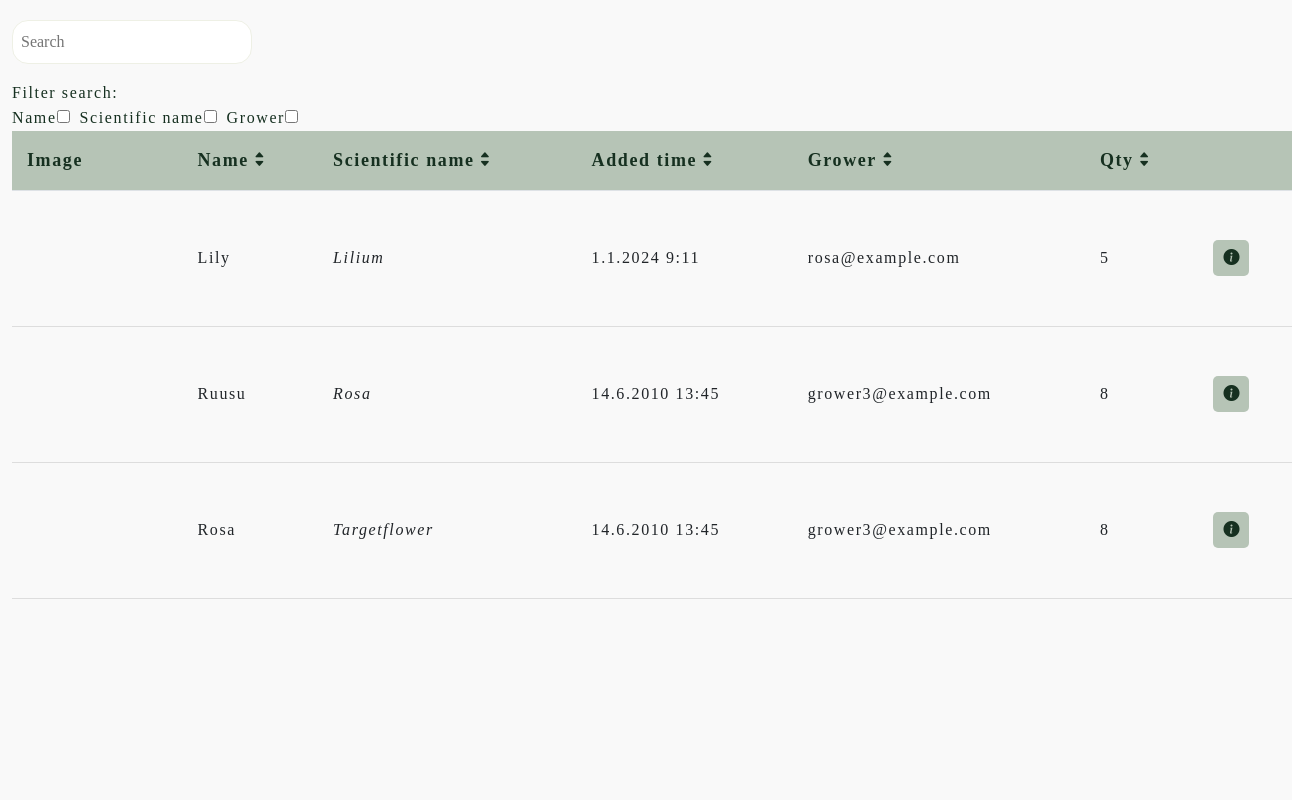
Test: Searches correctly when flower name search box is checked
This screenshot has width=1292, height=800.
Click the checkbox with test id "flowernamecheckbox": (63, 117) [57,110,70,123]
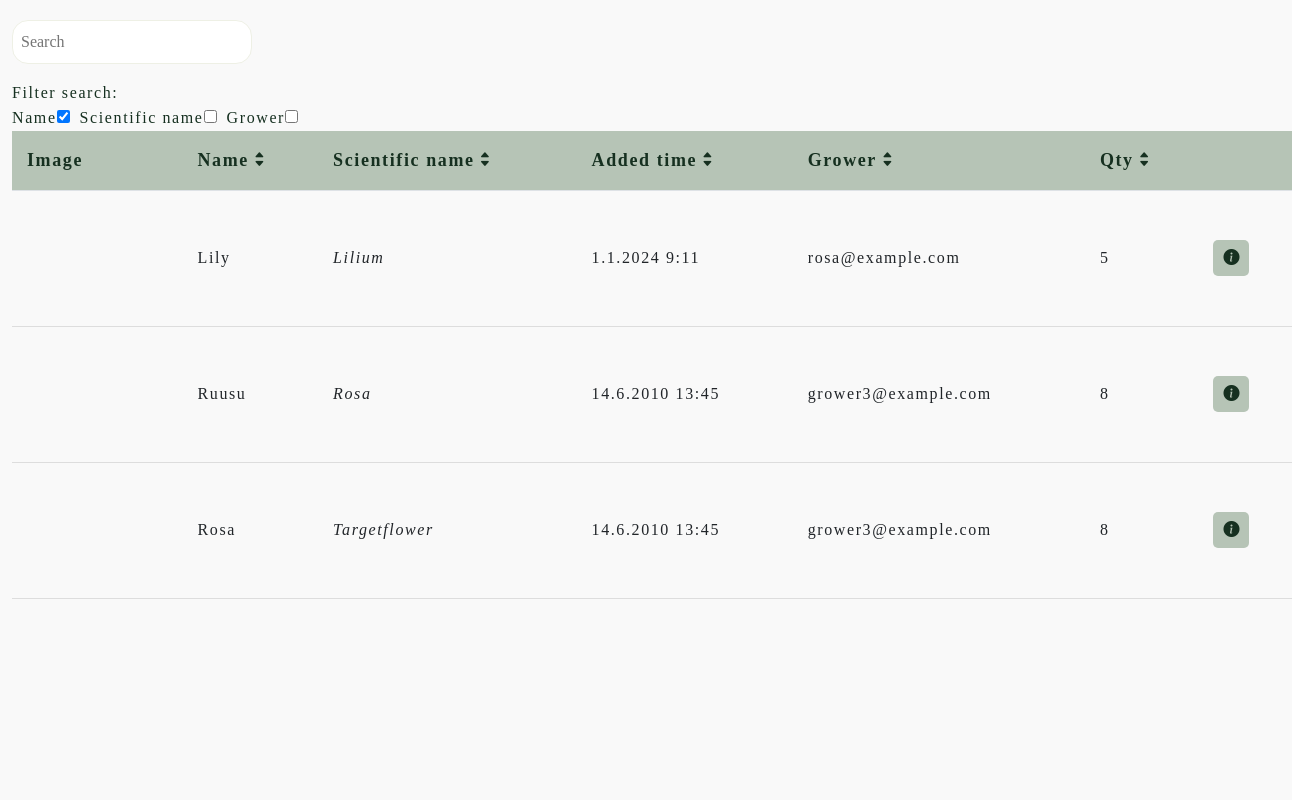
Now the checkbox with test id "flowernamecheckbox" is checked, box [57,110,70,123]
In the field with placeholder "Search": (132, 42) [12,20,252,64], type "Rosa"
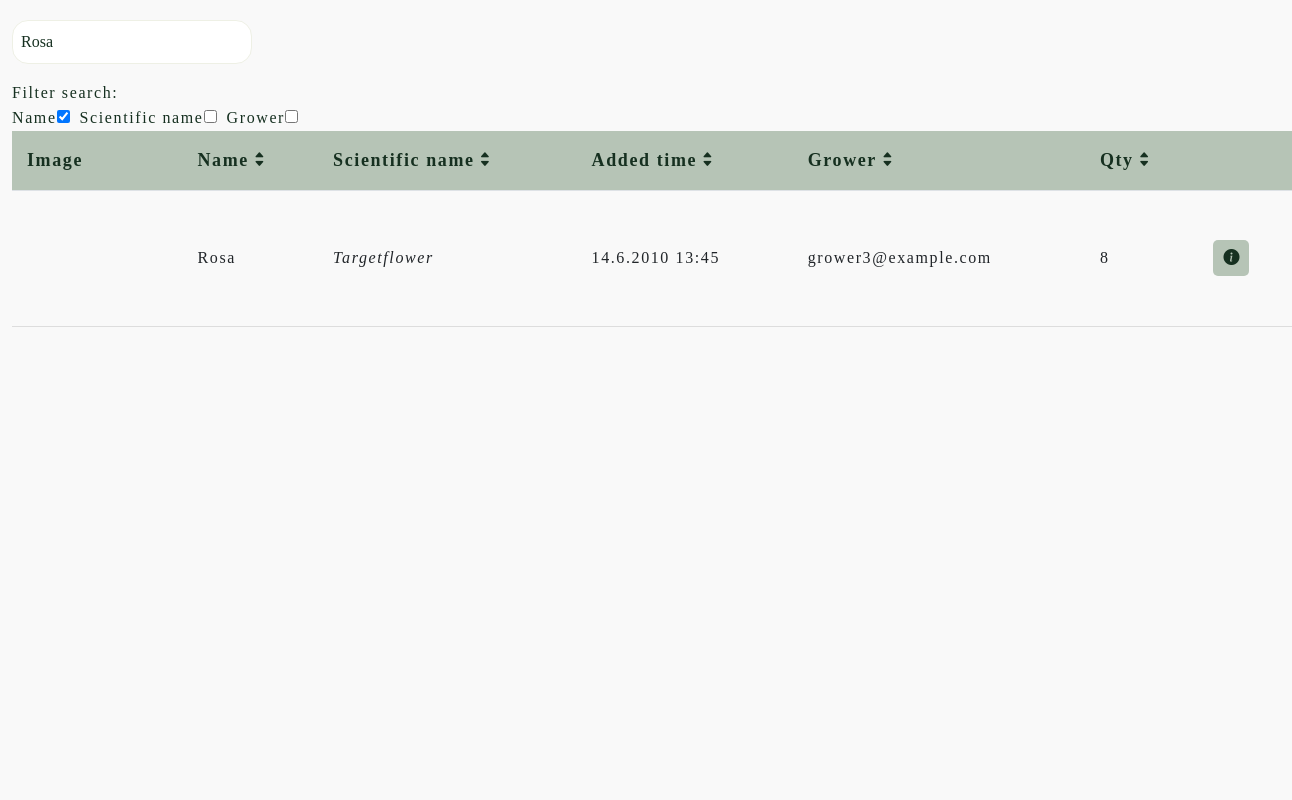
Expected: the text "Targetflower" is shown, [333,249,434,266]
Now the text "Ruusu" is gone
Now the text "rosa@example.com" is gone
